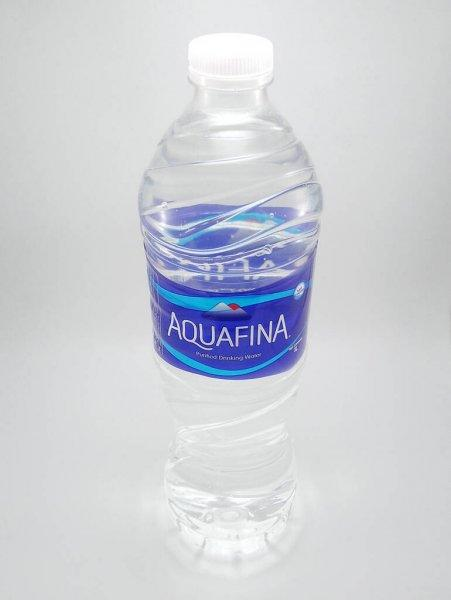bottle: (144, 31, 312, 583)
